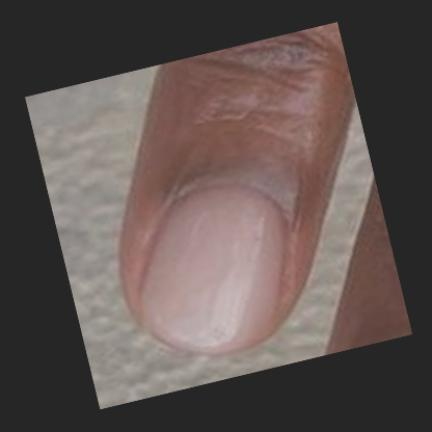Nail: (141, 186, 287, 352)
